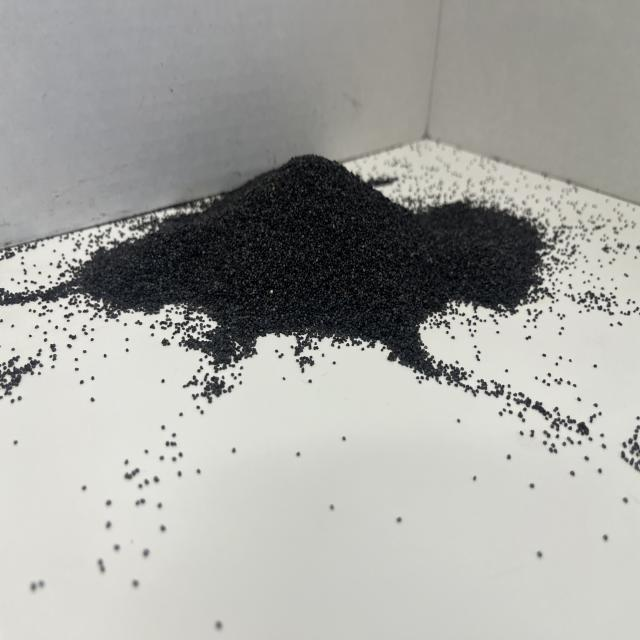Poppy Seeds: (94, 120, 544, 357)
